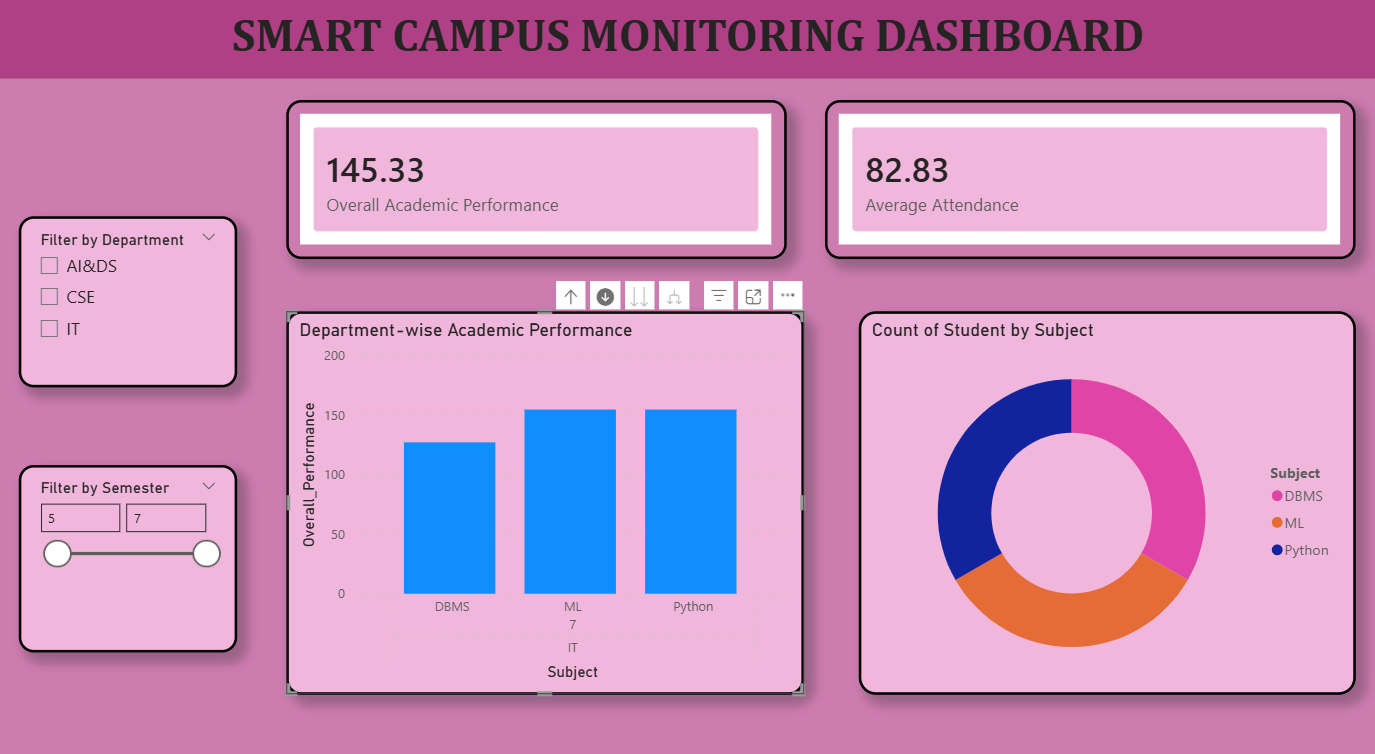

This screenshot's page, from the dashboard's own definition file:
{"tool":"powerbi","page":{"name":"Page 1","canvas":[1280,720],"ordinal":0},"visuals":[{"type":"cardVisual","fields":{"Data":["Avg(5 student_performance.Attendance_Percentage)"]},"box":[767.5,102,493.9,148],"z":0},{"type":"cardVisual","fields":{"Data":["5 student_performance.Overall_Performance"]},"box":[266.2,102,465.2,148],"z":1000},{"type":"slicer","fields":{"Values":["5 student_performance.Department"]},"box":[17.8,209.9,203.1,159.2],"z":2000},{"type":"slicer","fields":{"Values":["5 student_performance.Semester"]},"box":[17.8,441.9,203.1,174.3],"z":3000},{"type":"clusteredColumnChart","title":"Department-wise Academic Performance","fields":{"Y":["5 student_performance.Overall_Performance"],"Category":["5 student_performance.Department","5 student_performance.Semester","5 student_performance.Subject"]},"box":[266.2,299.1,481.6,356.8],"z":4000},{"type":"donutChart","title":"Count of Student by Subject","fields":{"Category":["5 student_performance.Subject"],"Y":["CountNonNull(5 student_performance.Student_ID)"]},"box":[798.6,299.1,462.4,356.8],"z":5000},{"type":"textbox","box":[0,0,1280.3,82.3],"z":6000}]}

Visuals, with their boxes in screenshot pixels (x1, y1, x2, y2), scaled from the page's 1280x720 canvas onto the 1375x754 screenshot:
cardVisual - Avg(5 student_performance.Attendance_Percentage): BBox(824, 107, 1355, 262)
cardVisual - 5 student_performance.Overall_Performance: BBox(286, 107, 786, 262)
slicer - 5 student_performance.Department: BBox(19, 220, 237, 387)
slicer - 5 student_performance.Semester: BBox(19, 463, 237, 645)
"Department-wise Academic Performance" clusteredColumnChart: BBox(286, 313, 803, 687)
"Count of Student by Subject" donutChart: BBox(858, 313, 1355, 687)
textbox: BBox(0, 0, 1374, 86)
